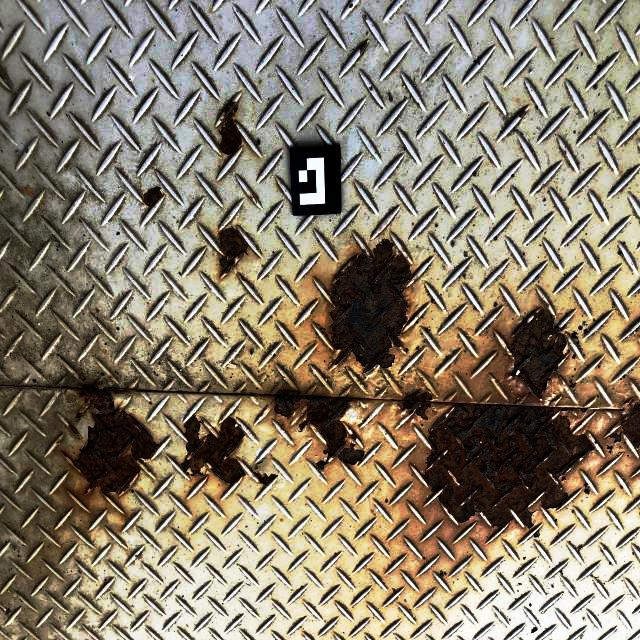Corrosion: (421, 403, 604, 542), (319, 235, 419, 376), (61, 377, 161, 501), (486, 292, 570, 406), (271, 387, 366, 475), (178, 411, 248, 487), (216, 225, 250, 275), (217, 96, 243, 157), (239, 456, 280, 487), (617, 399, 640, 452), (399, 389, 437, 420), (601, 426, 626, 461), (142, 184, 164, 209), (359, 39, 368, 56), (516, 107, 527, 119), (248, 192, 258, 205), (362, 13, 368, 22), (420, 375, 424, 383), (349, 3, 354, 9), (368, 86, 373, 92), (420, 422, 425, 427), (477, 61, 481, 66)
